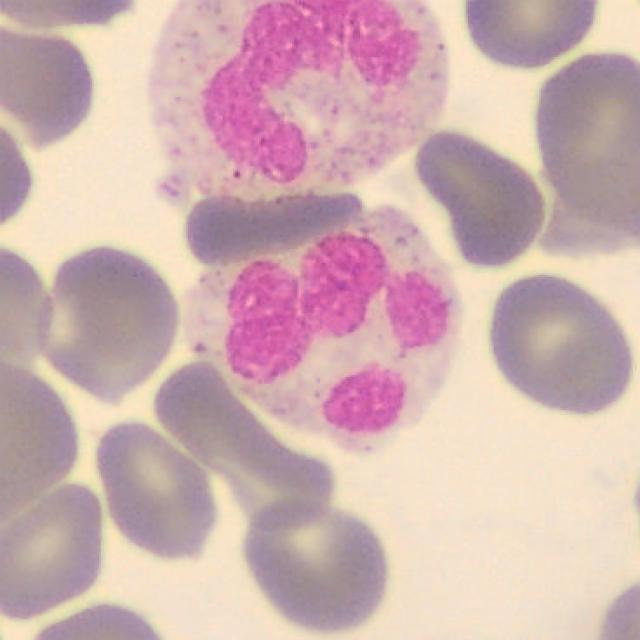Neutrofilo segmentado: (182, 204, 459, 457)
